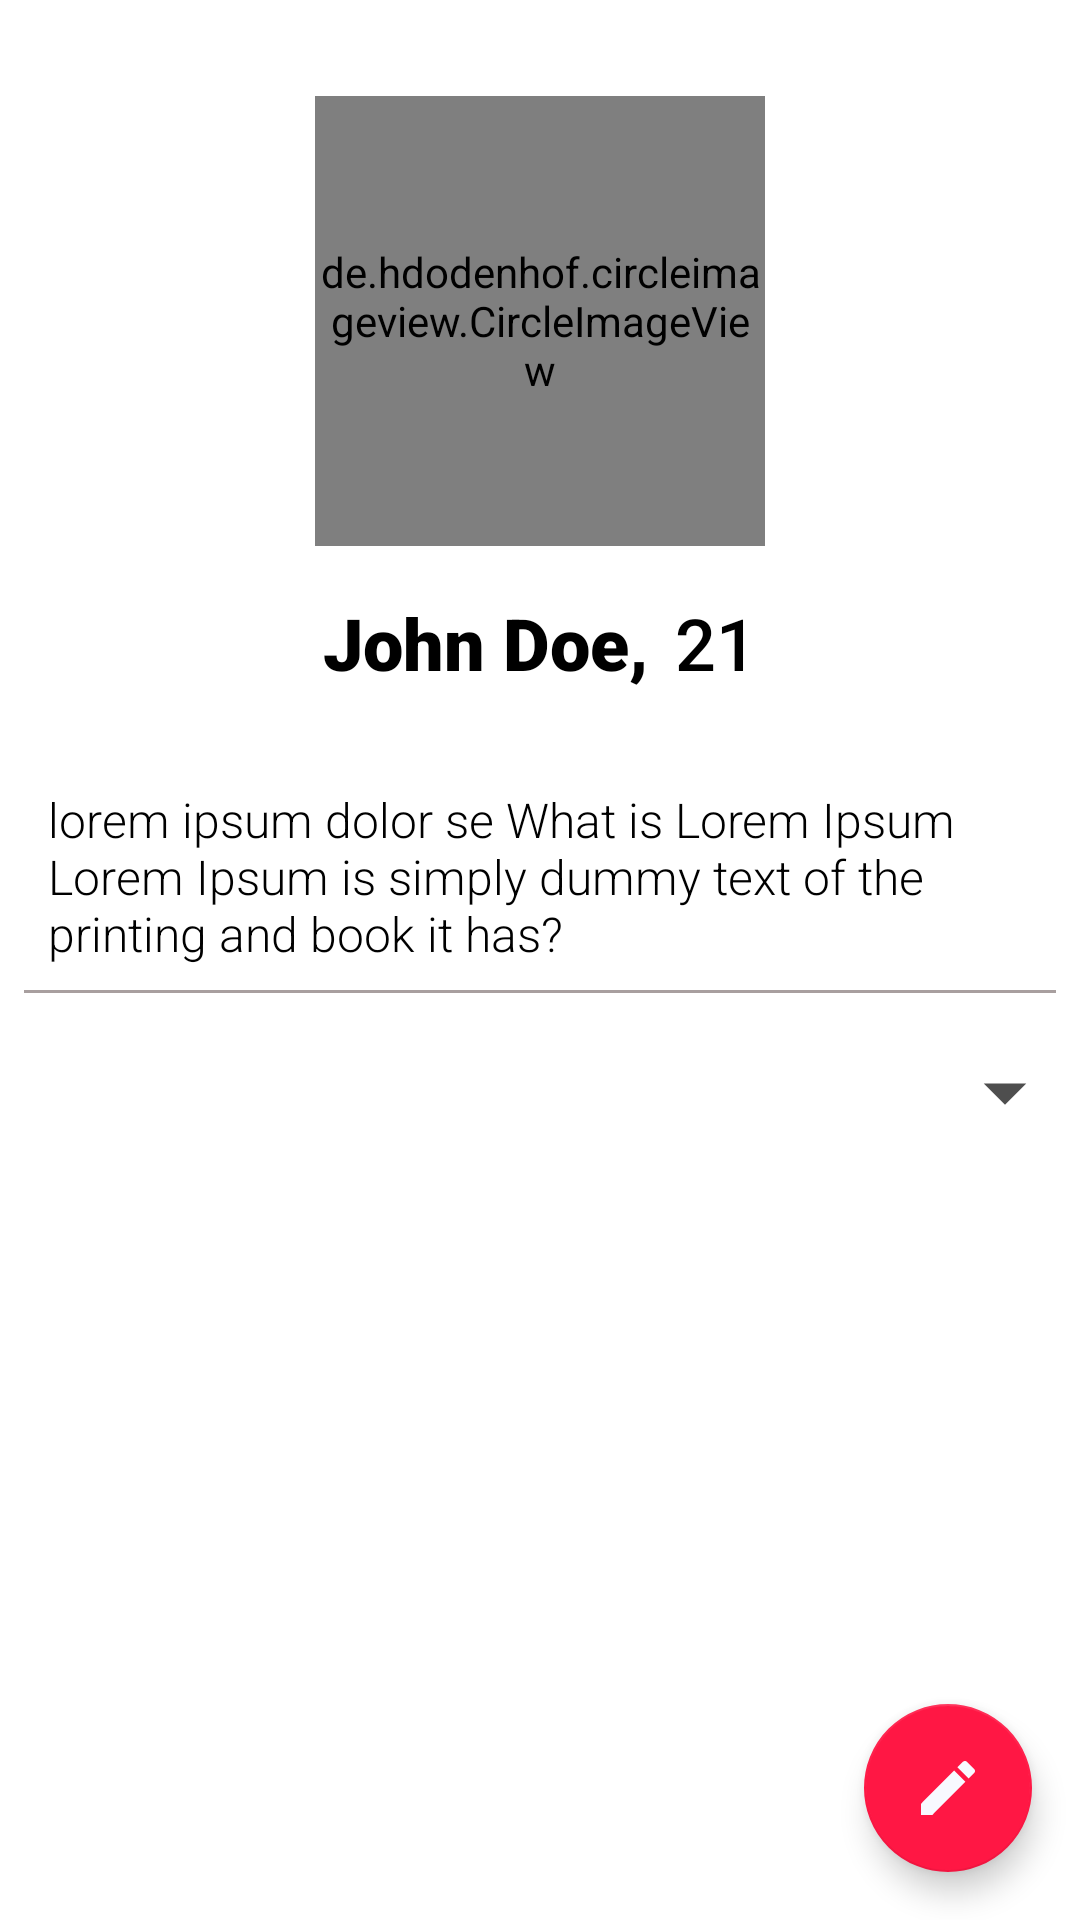

Screen size 1080x1920. Icon name, then its box in pixels as (x1, y1, x2, y2):
arrow drop down: (984, 1083, 1026, 1105)
create: (864, 1704, 1032, 1872)
